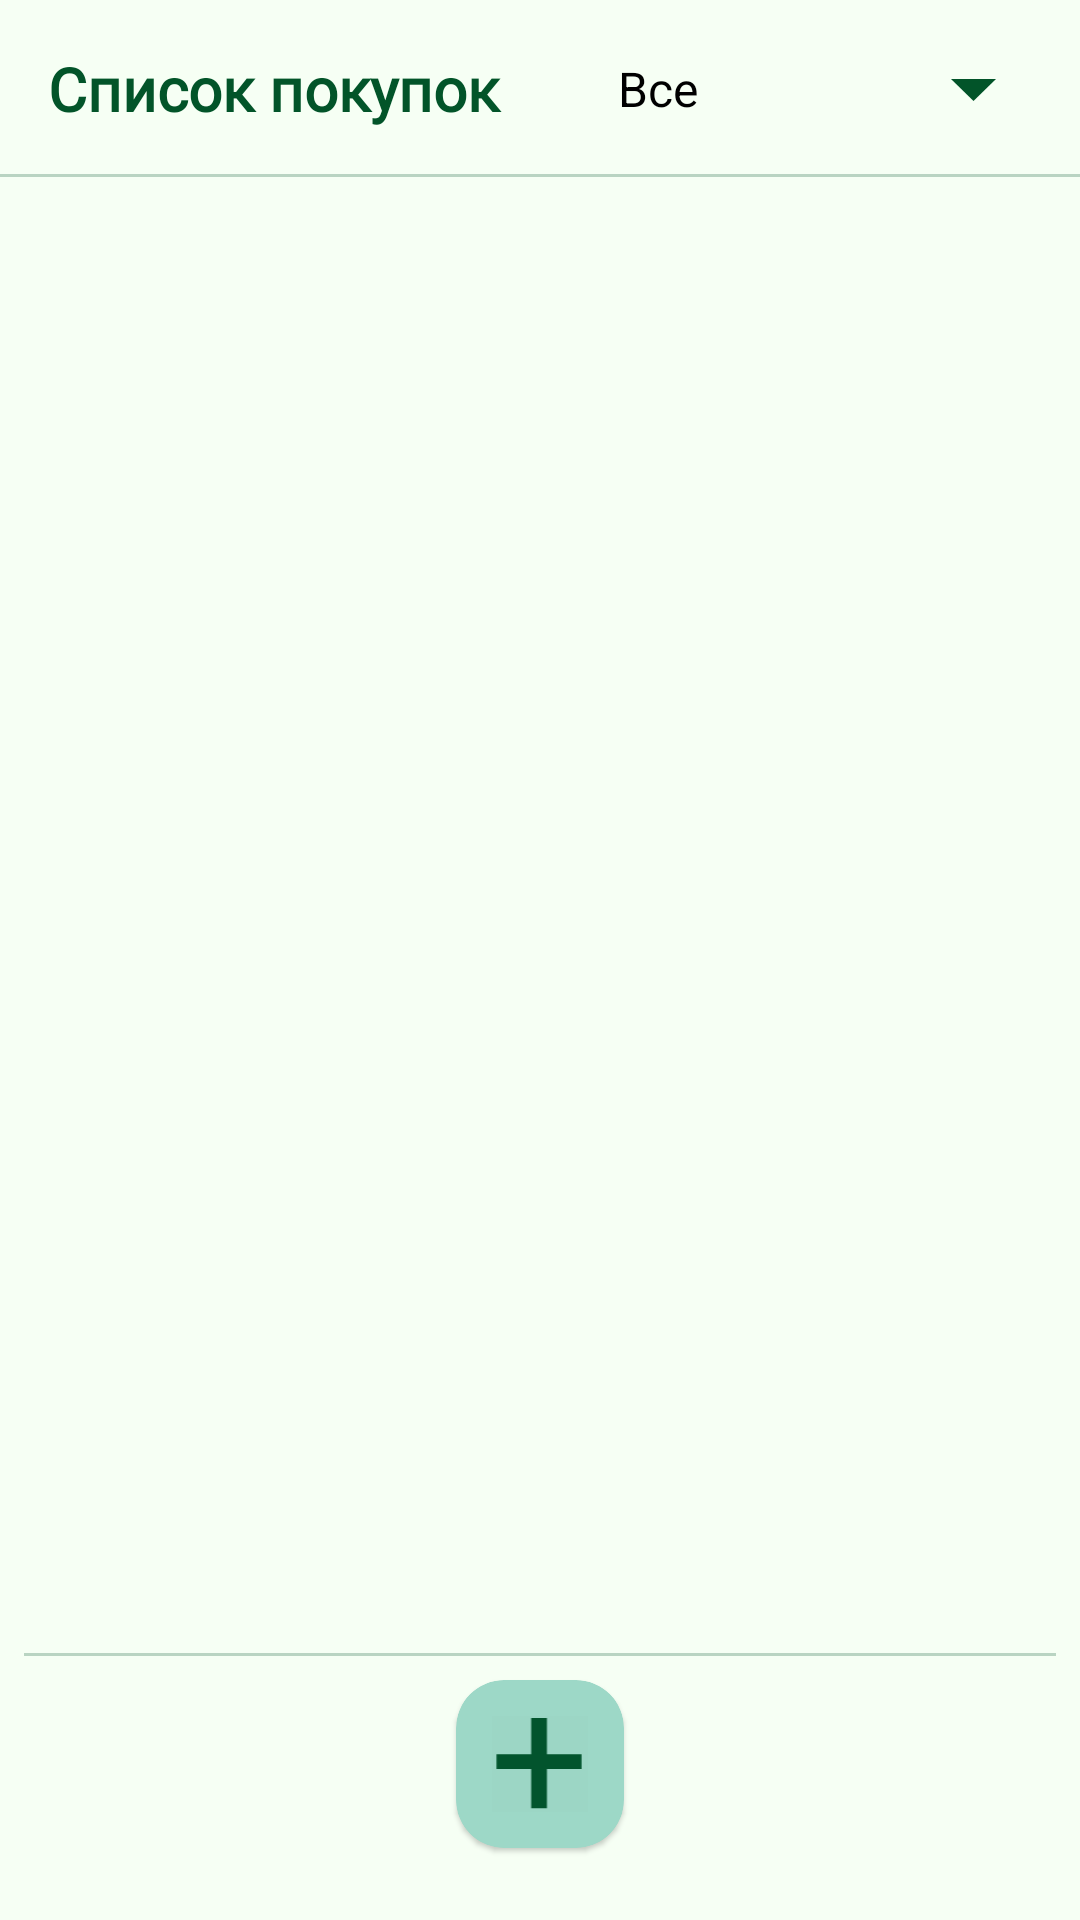

Icons on this 1080w x 1920h Android screen, each with its box as (x1, y1, x2, y2):
add: (496, 1718, 582, 1809)
drop: (951, 79, 996, 101)
